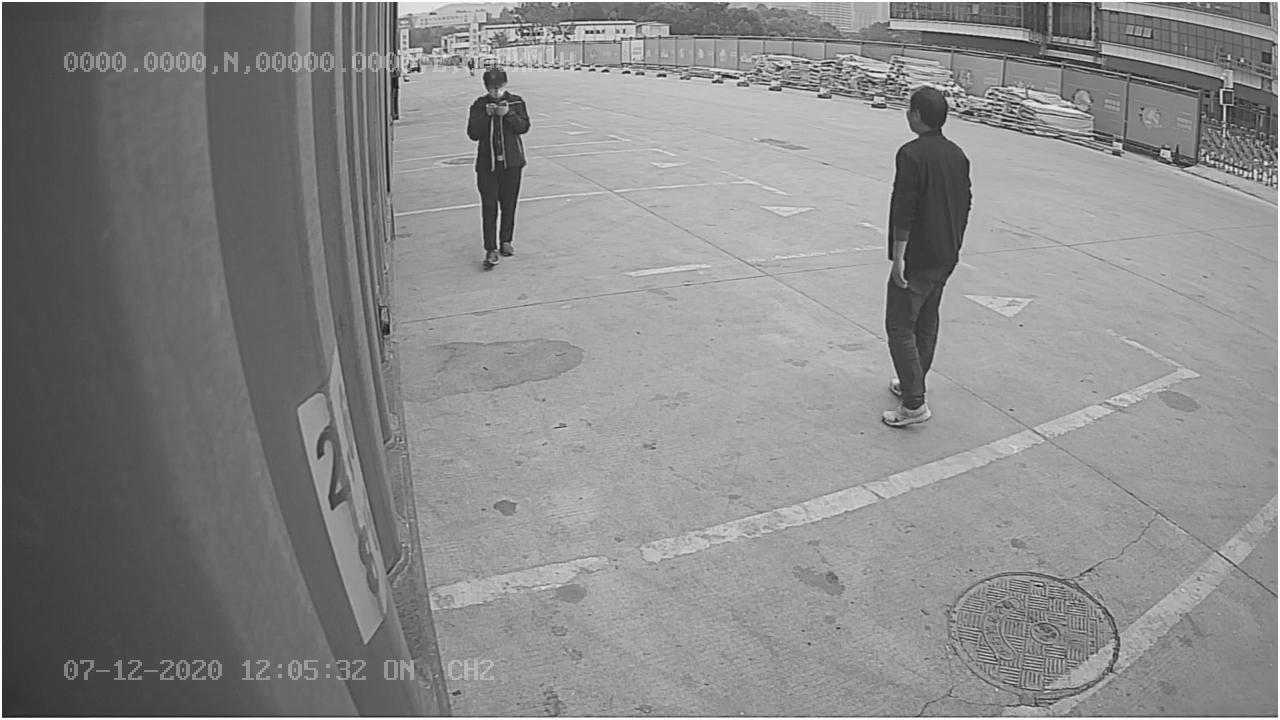person: (882, 80, 976, 427)
